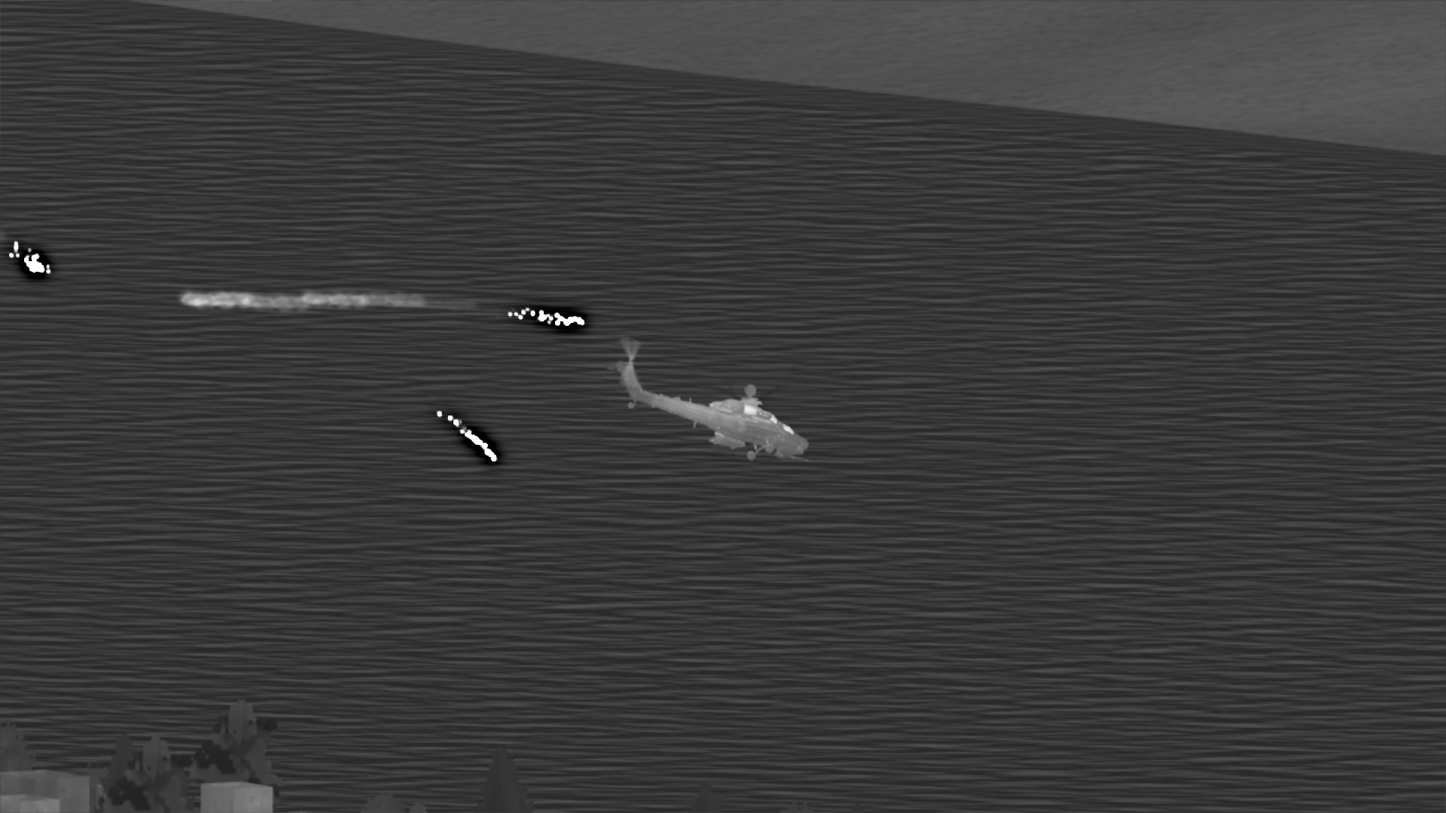mi28: (610, 337, 814, 464)
